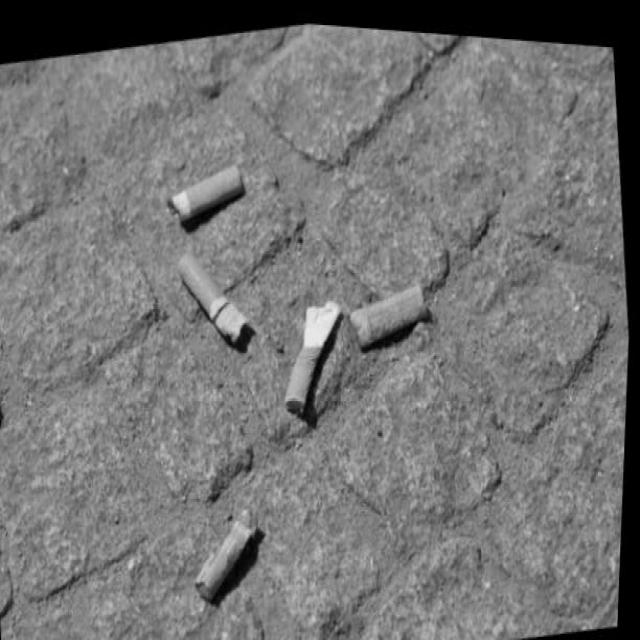cigarette: (172, 230, 262, 360), (276, 285, 354, 413), (193, 500, 270, 606), (348, 268, 434, 352), (165, 150, 252, 233)
